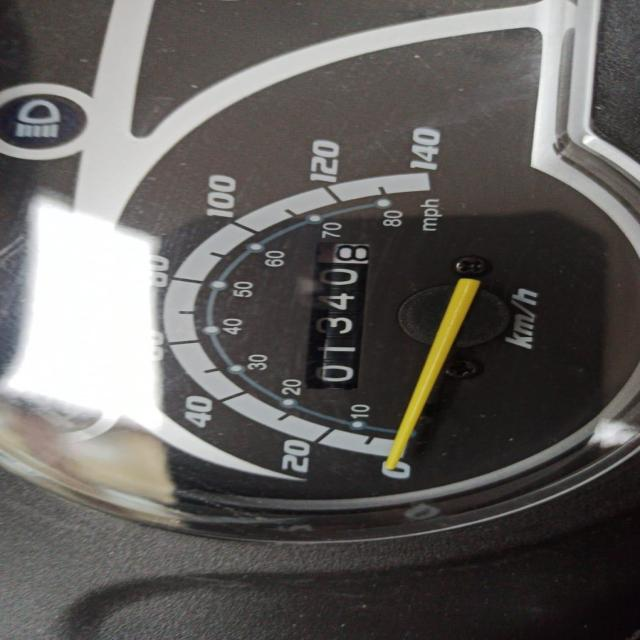odometer: (306, 239, 368, 395)
